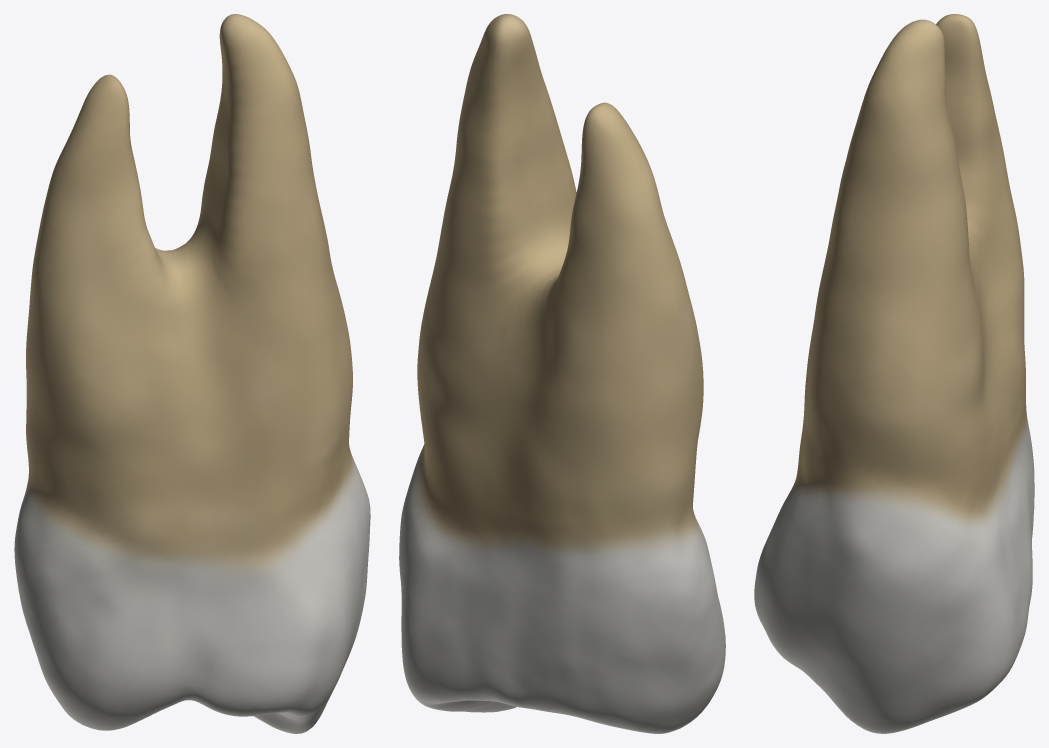
Rendered from maxillary_first_premolar.glb.
3 renders of one model, left to right at view 1: azimuth 30°, elevation 25°; view 2: azimuth 150°, elevation 25°; view 3: azimuth 270°, elevation 25°, orthographic. The views are drawn at different scales.
Visible parts, largest first — view 1: Object_3; view 2: Object_3; view 3: Object_3.
Part boxes in pixels (bbox=[...]): Object_3: bbox=[14, 14, 370, 733]; Object_3: bbox=[399, 14, 725, 733]; Object_3: bbox=[754, 14, 1034, 733].
Bounding box in the file's own units: 0.3954 × 0.8624 × 0.316.
Materials: 1 (1 with a texture image).
